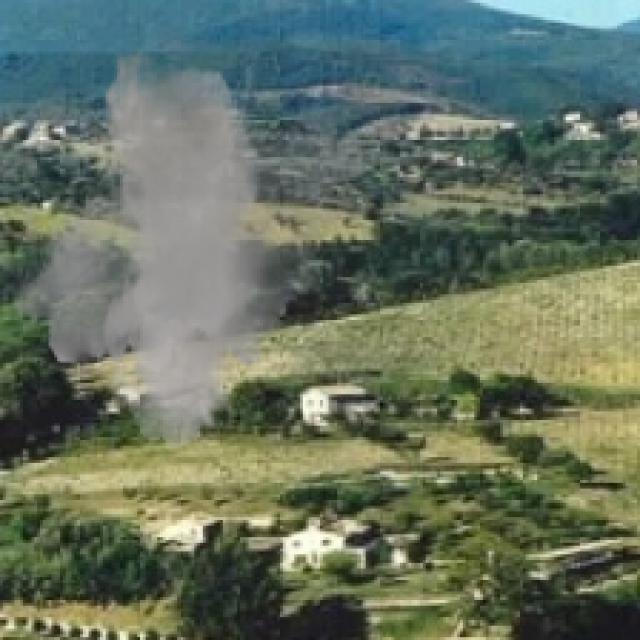smoke: (0, 49, 380, 448)
